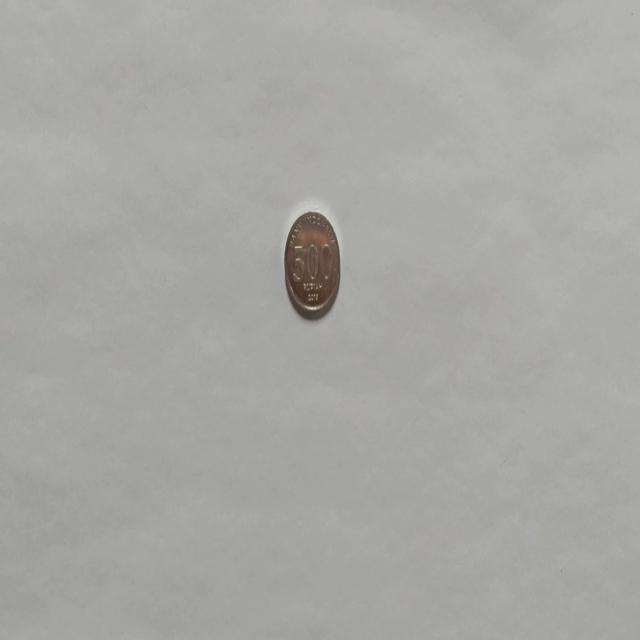lima ratus rupiah: (283, 209, 341, 320)
